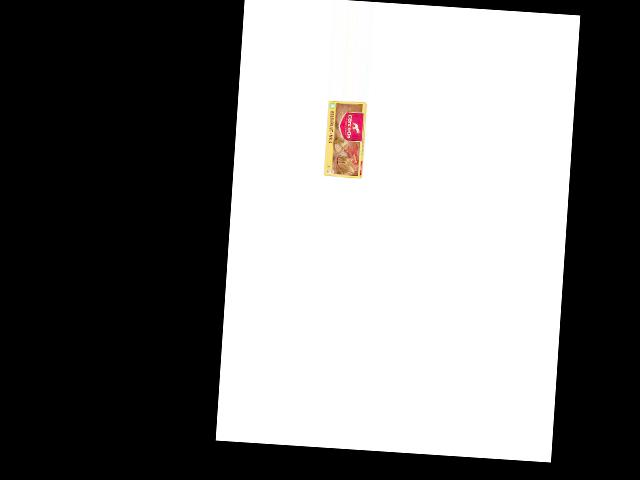chocolate: (317, 99, 368, 180)
